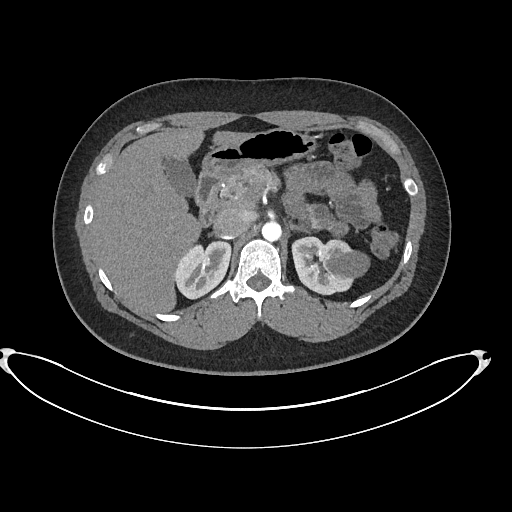Lesion: (325, 248, 372, 283)
